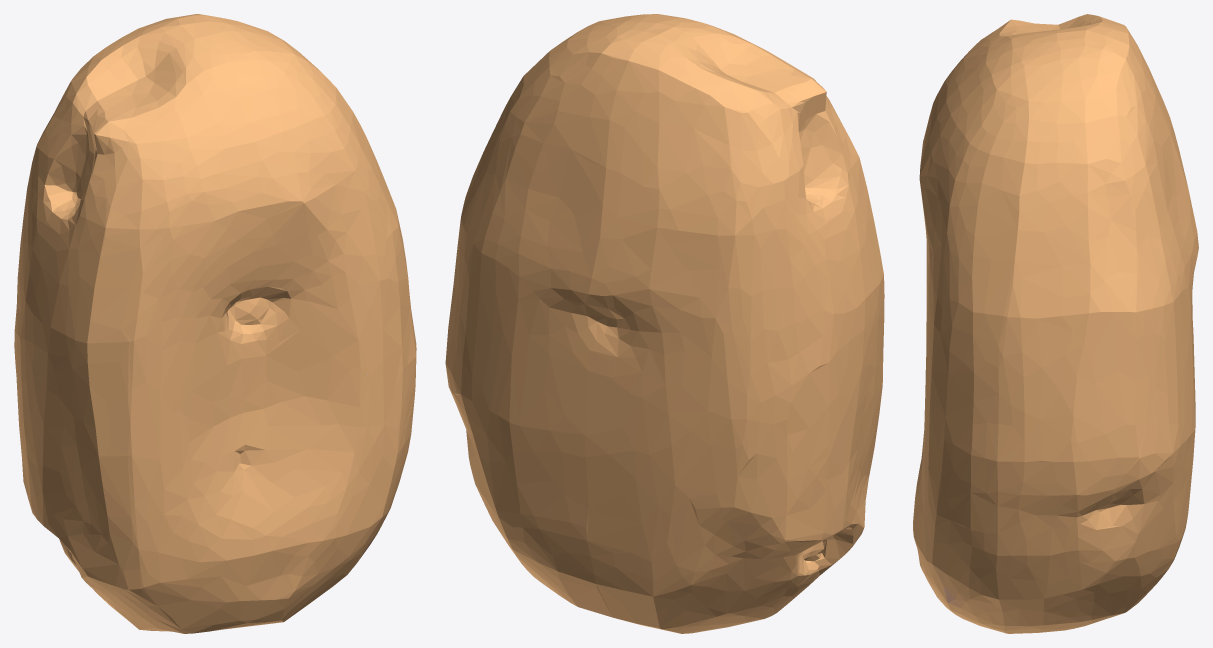
File: potato.glb
The picture shows the model from 3 angles, left to right: view 1: azimuth 30°, elevation 25°; view 2: azimuth 150°, elevation 25°; view 3: azimuth 270°, elevation 25°; orthographic projection. The views are drawn at different scales.
Visible parts, largest first — view 1: world; view 2: world; view 3: world.
Boxes of the visible parts, bbox=[...] form: world: bbox=[14, 14, 416, 633]; world: bbox=[445, 14, 884, 633]; world: bbox=[913, 14, 1198, 633].
Bounding box in the file's own units: 0.42 × 0.6289 × 0.2838.
Materials: 1 (1 with a texture image).
